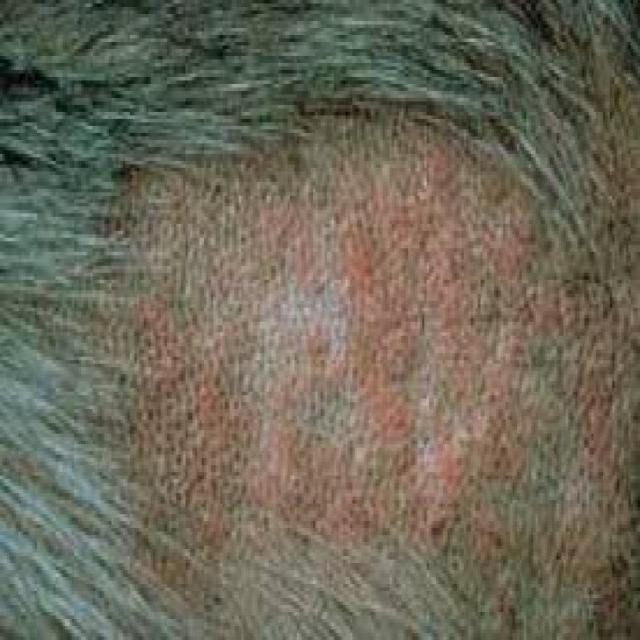di ung bo chet: (97, 95, 639, 640)
